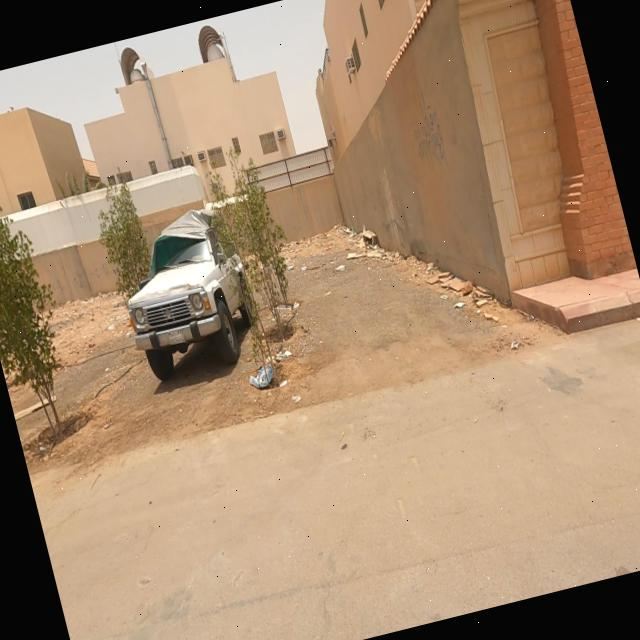Graffiti: (403, 86, 451, 171), (88, 262, 116, 282), (71, 271, 87, 291)
